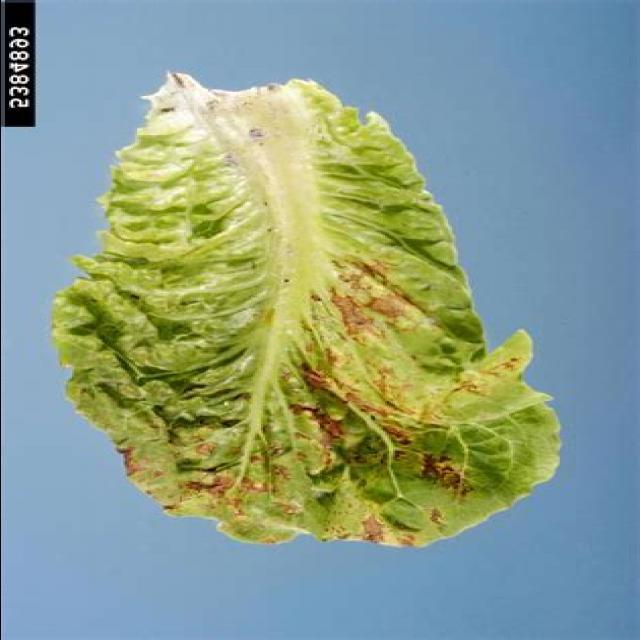Lettuce: (53, 64, 565, 549)
